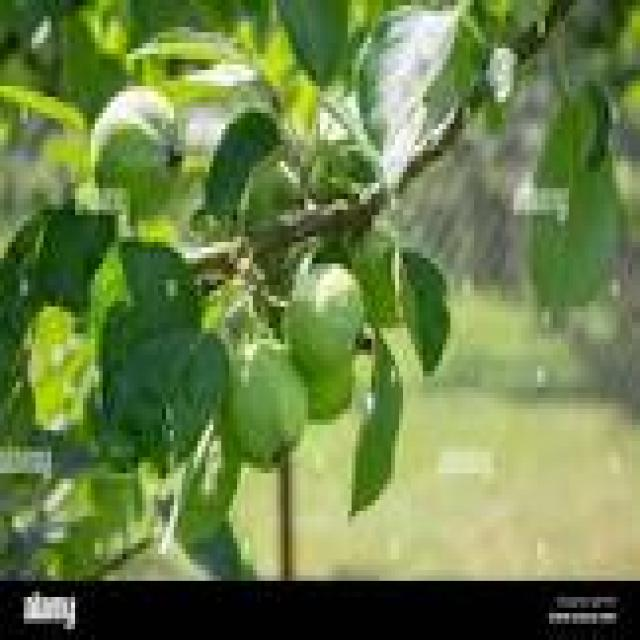apple: (91, 86, 178, 215), (229, 339, 304, 468), (284, 264, 360, 376), (308, 360, 352, 414)
